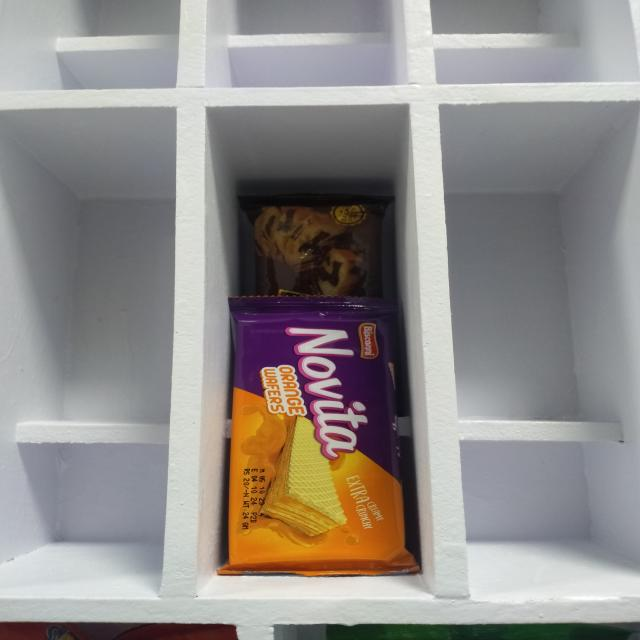Plastic: (228, 300, 418, 574), (237, 190, 388, 294)
